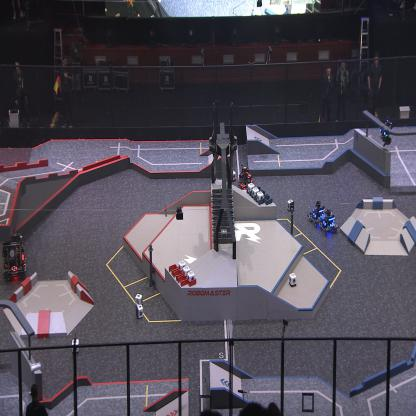car: (2, 231, 28, 281), (318, 205, 338, 235), (308, 199, 328, 226), (237, 162, 254, 193)
